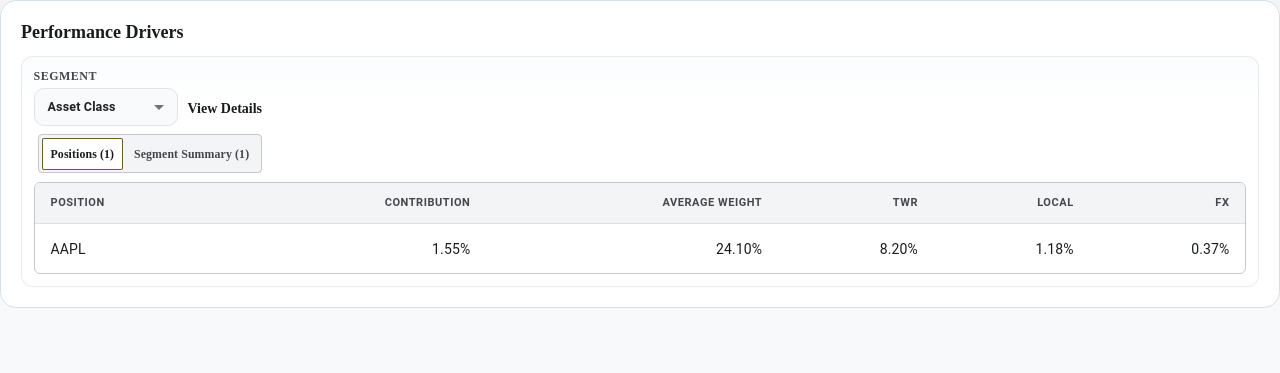
Test: PerformanceAnalysisContributionSection › keeps stable controlled panels mounted while showing only the selected detail grid
expect the table named "Position contribution table" is shown: met, box top-left (34, 183), bottom-right (1246, 273)
What coordinates should you click on to do the following:
click the tab "Segment Summary (1)"
I would click on:
 (192, 154)
Its box is top-left (125, 138), bottom-right (258, 170).
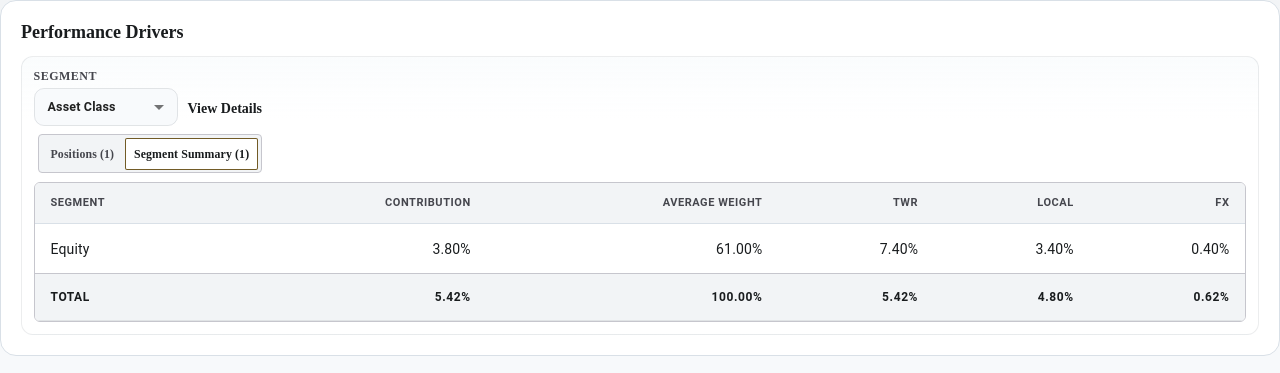
expect the table named "Asset Class contribution table" is shown: met, box top-left (34, 183), bottom-right (1246, 321)
